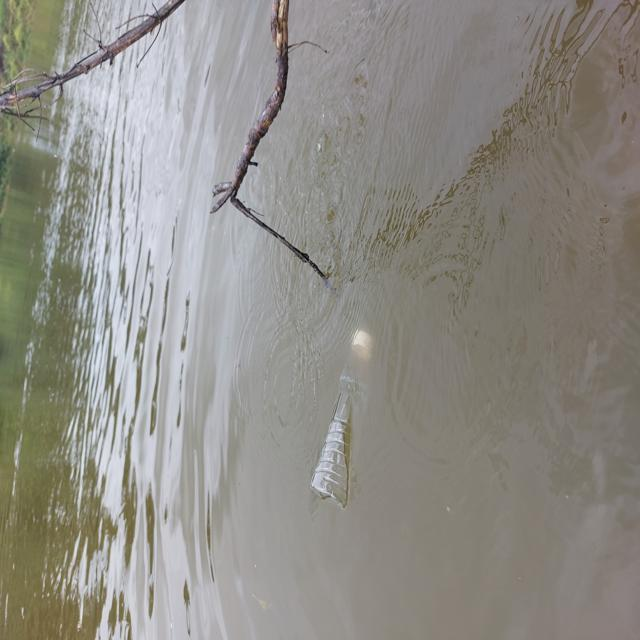waterbottle: (295, 330, 387, 514)
